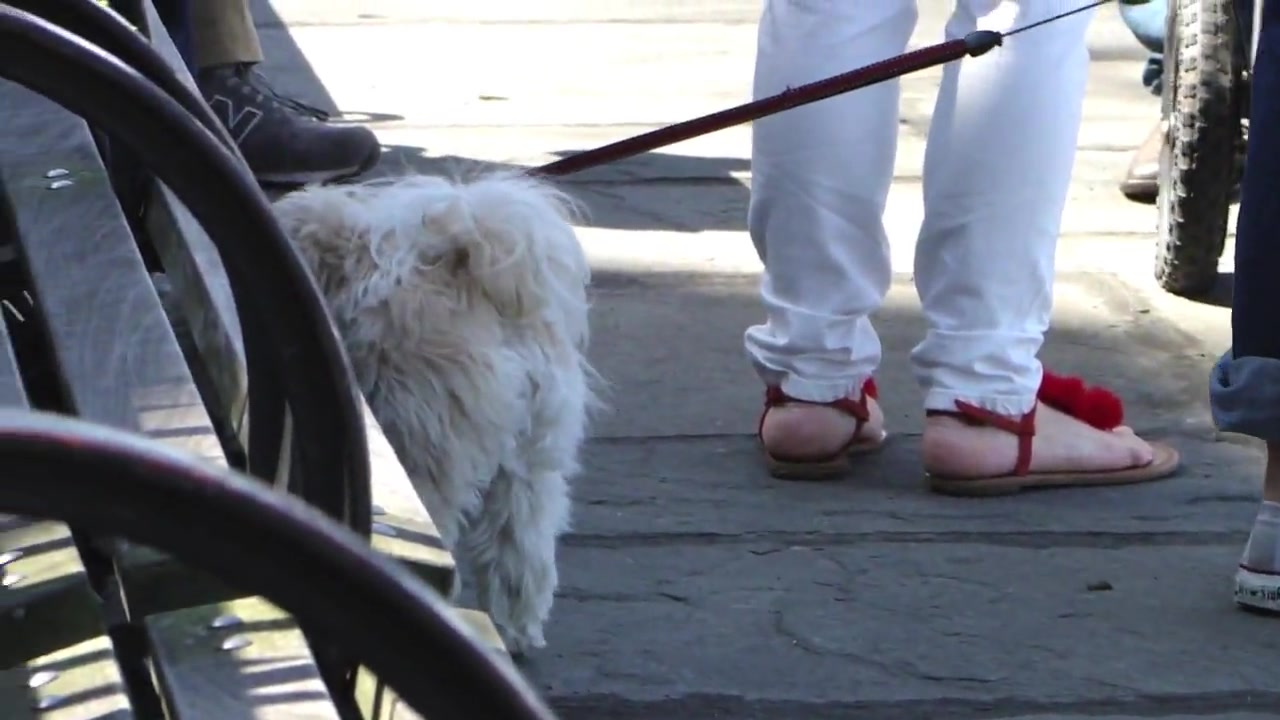dog: (262, 157, 601, 659)
